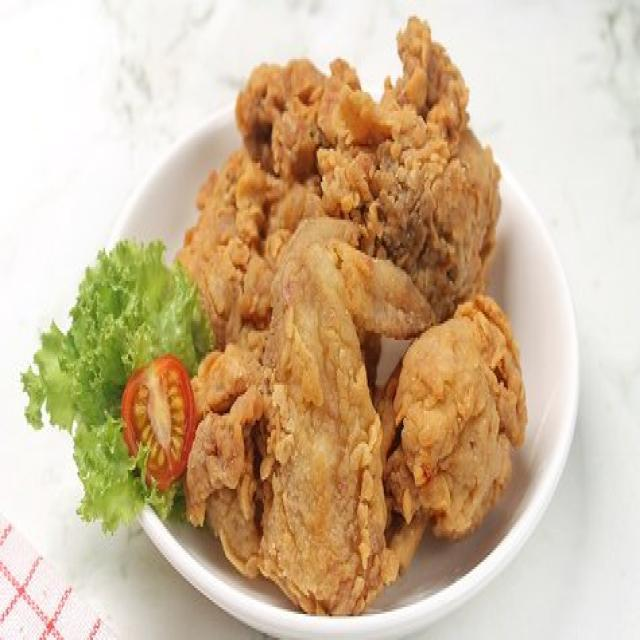ayam_goreng: (120, 64, 544, 561)
